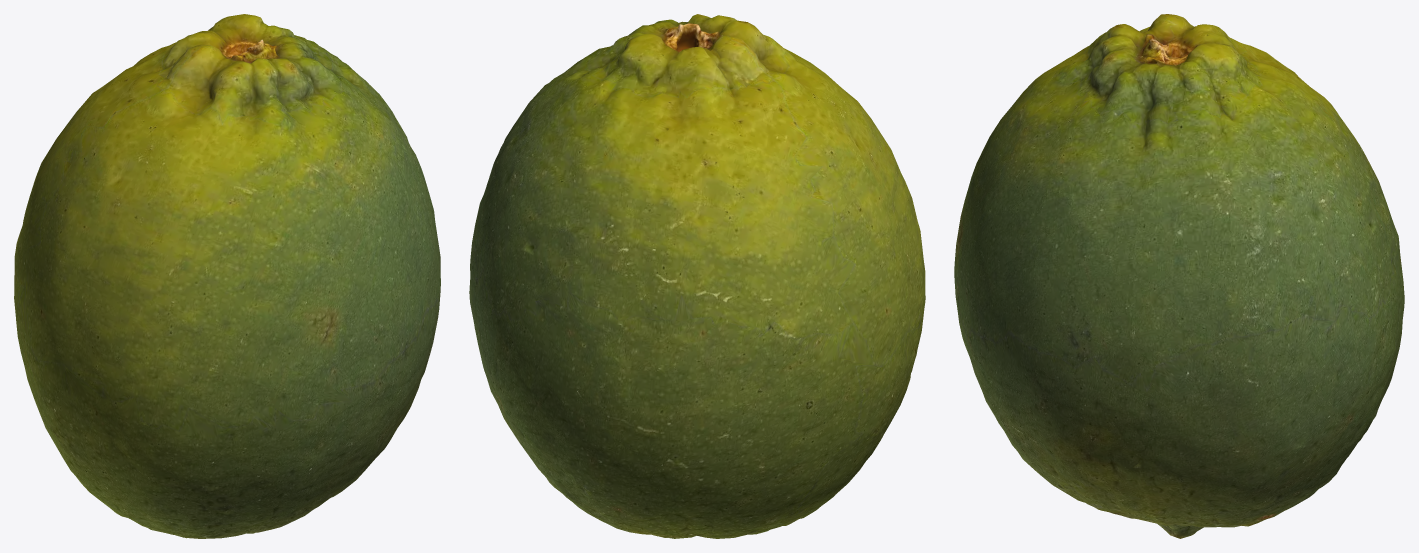
The model's file is food_lime_01_1k-transformed.glb.
The picture shows the model from 3 angles, left to right: view 1: azimuth 30°, elevation 25°; view 2: azimuth 150°, elevation 25°; view 3: azimuth 270°, elevation 25°; orthographic projection.
Parts seen in each view (by area): view 1: food_lime_01; view 2: food_lime_01; view 3: food_lime_01.
Boxes of the visible parts, left/top/right/bottom form: food_lime_01: left=14, top=14, right=440, bottom=538; food_lime_01: left=469, top=14, right=925, bottom=538; food_lime_01: left=954, top=14, right=1404, bottom=538.
Bounding box in the file's own units: 0.0601 × 0.0754 × 0.0613.
1 material, 1 textured.
